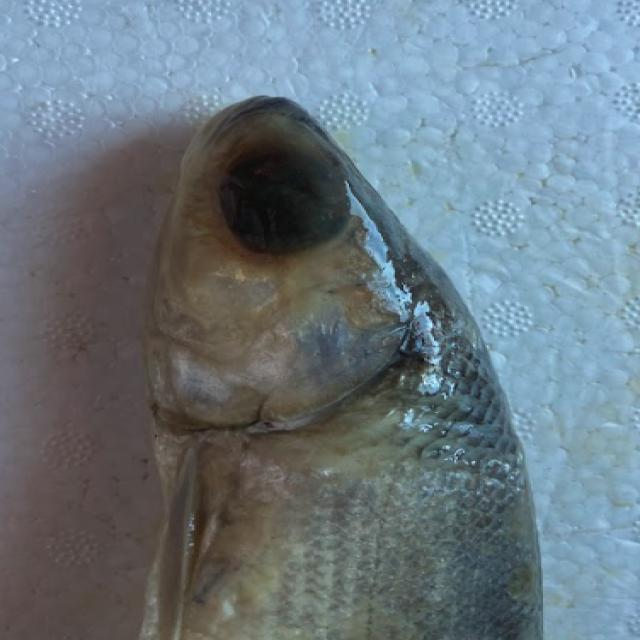Bangus-NF -0-5-: (50, 40, 569, 615)
Eye -0-: (202, 132, 376, 271)
Skin -0-: (153, 374, 526, 640)
